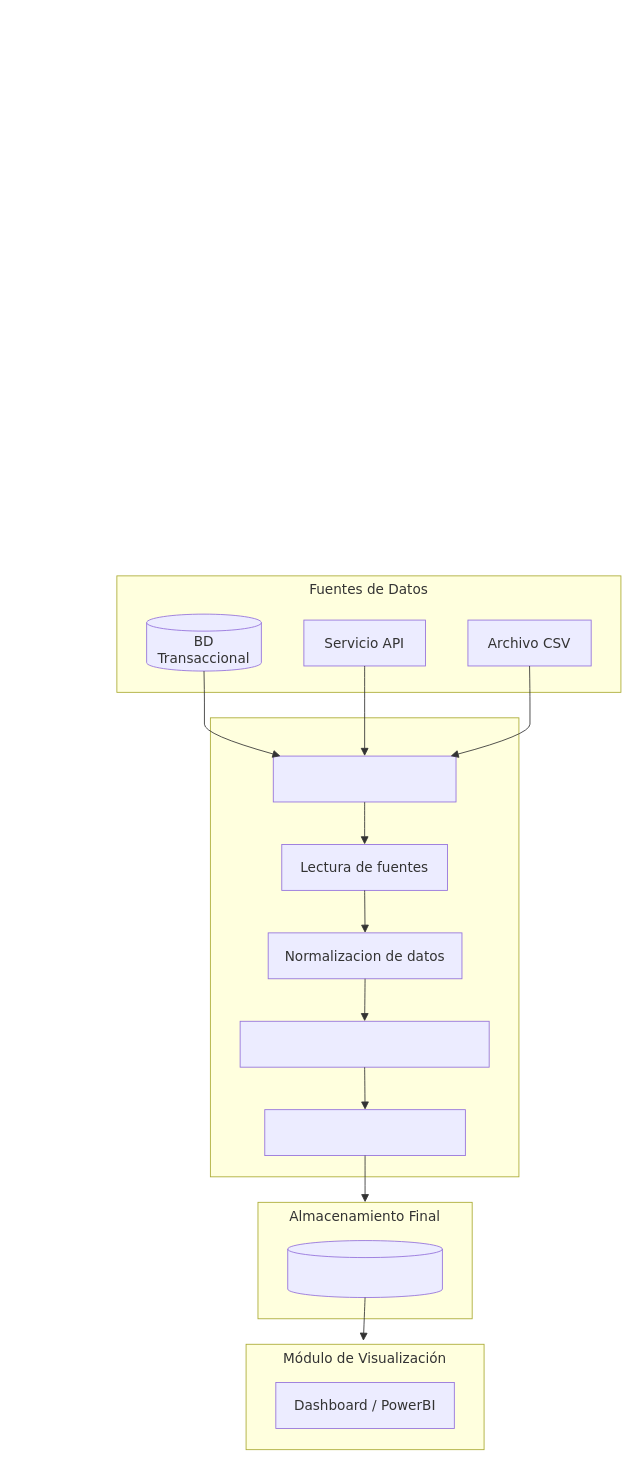
The diagram is 636 pixels wide and 1465 high, and some of its shapes have lost their labels. Each missing label, with the box of its shape:
Base de Datos Analitica: (287, 1240, 442, 1298)
Consolidacion de la data: (264, 1109, 465, 1156)
Motor ETL - Worker Service: (210, 717, 519, 1177)
Orquestador Principal: (272, 755, 456, 802)
Reglas de negocio y validaciones: (239, 1020, 489, 1067)
